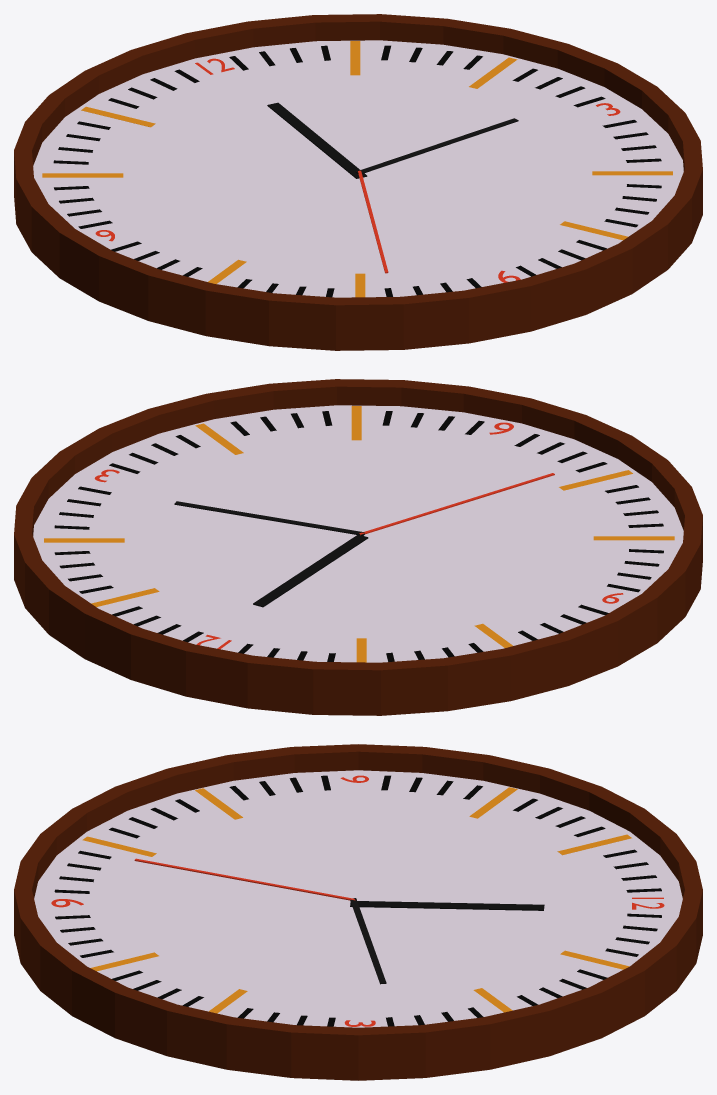
File: dongho (1).fbx
3 renders of one model, top to bottom at view 1: azimuth 30°, elevation 25°; view 2: azimuth 150°, elevation 25°; view 3: azimuth 270°, elevation 25°, orthographic.
Visible parts, largest first — view 1: đồnghồ, vạchphut, vachgio, gio, phut; view 2: đồnghồ, vạchphut, vachgio, gio, phut, giay; view 3: đồnghồ, vạchphut, vachgio, gio, giay, phut.
Boxes of the visible parts, x1=… form: đồnghồ: x1=14, y1=14, x2=702, y2=350; vạchphut: x1=53, y1=45, x2=661, y2=297; vachgio: x1=42, y1=41, x2=672, y2=297; gio: x1=267, y1=102, x2=367, y2=178; phut: x1=355, y1=118, x2=518, y2=173; đồnghồ: x1=14, y1=379, x2=702, y2=715; vạchphut: x1=54, y1=411, x2=663, y2=661; vachgio: x1=44, y1=406, x2=674, y2=662; gio: x1=253, y1=535, x2=368, y2=607; phut: x1=174, y1=501, x2=364, y2=535; giay: x1=359, y1=473, x2=554, y2=535; đồnghồ: x1=14, y1=744, x2=702, y2=1080; vạchphut: x1=54, y1=775, x2=661, y2=1026; vachgio: x1=82, y1=787, x2=631, y2=1013; gio: x1=350, y1=901, x2=544, y2=910; giay: x1=134, y1=858, x2=356, y2=900; phut: x1=350, y1=898, x2=386, y2=984.
Bounding box in the file's own units: 20 × 1.46 × 20.
